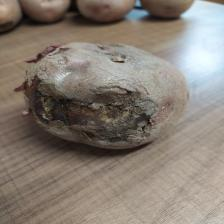Damaged potato: (18, 38, 192, 154)
